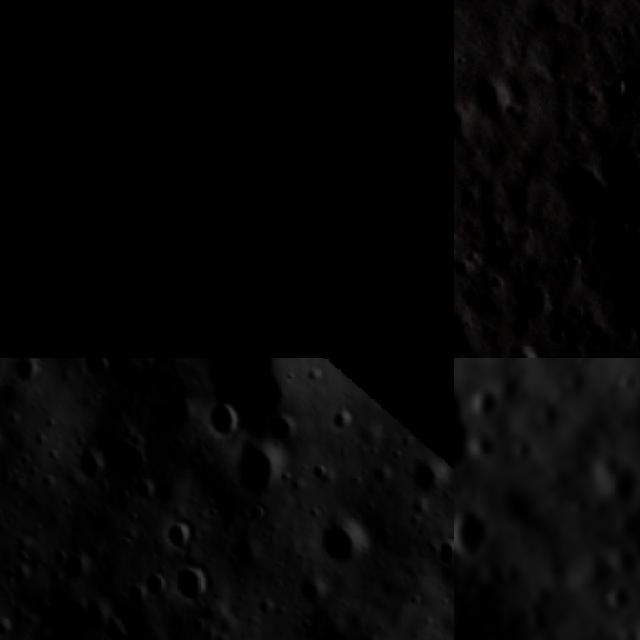crater: (579, 180, 640, 358), (534, 141, 624, 233), (313, 233, 405, 318), (454, 57, 527, 136), (182, 275, 253, 356), (221, 430, 293, 505), (454, 493, 510, 584), (580, 122, 640, 205), (454, 376, 492, 490), (497, 264, 560, 326), (316, 516, 382, 572), (102, 428, 162, 487), (386, 406, 449, 451), (165, 556, 222, 604), (593, 572, 640, 625), (202, 392, 245, 446), (408, 456, 454, 502), (49, 543, 94, 588), (160, 508, 200, 557), (490, 328, 547, 358), (454, 87, 480, 148), (290, 567, 328, 607), (140, 561, 172, 602), (428, 527, 454, 576), (7, 358, 44, 384), (79, 358, 115, 381)
